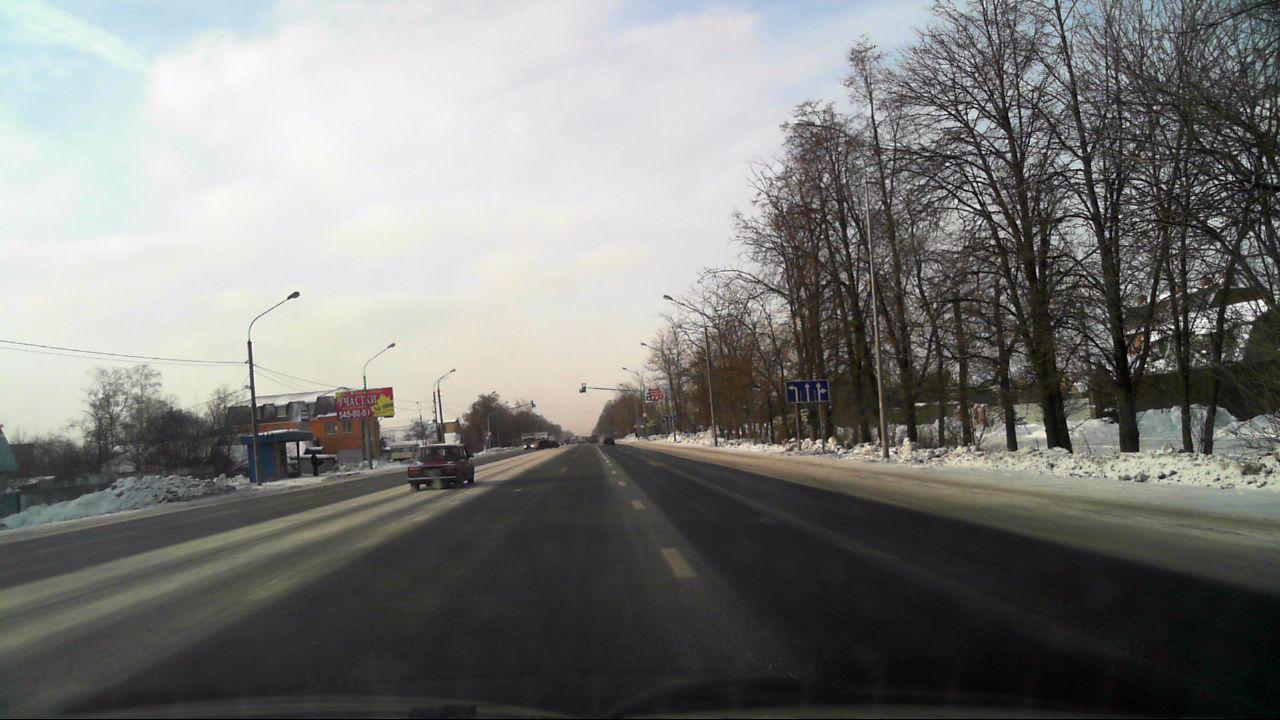5_15_1: (785, 380, 828, 402), (660, 415, 674, 425)
